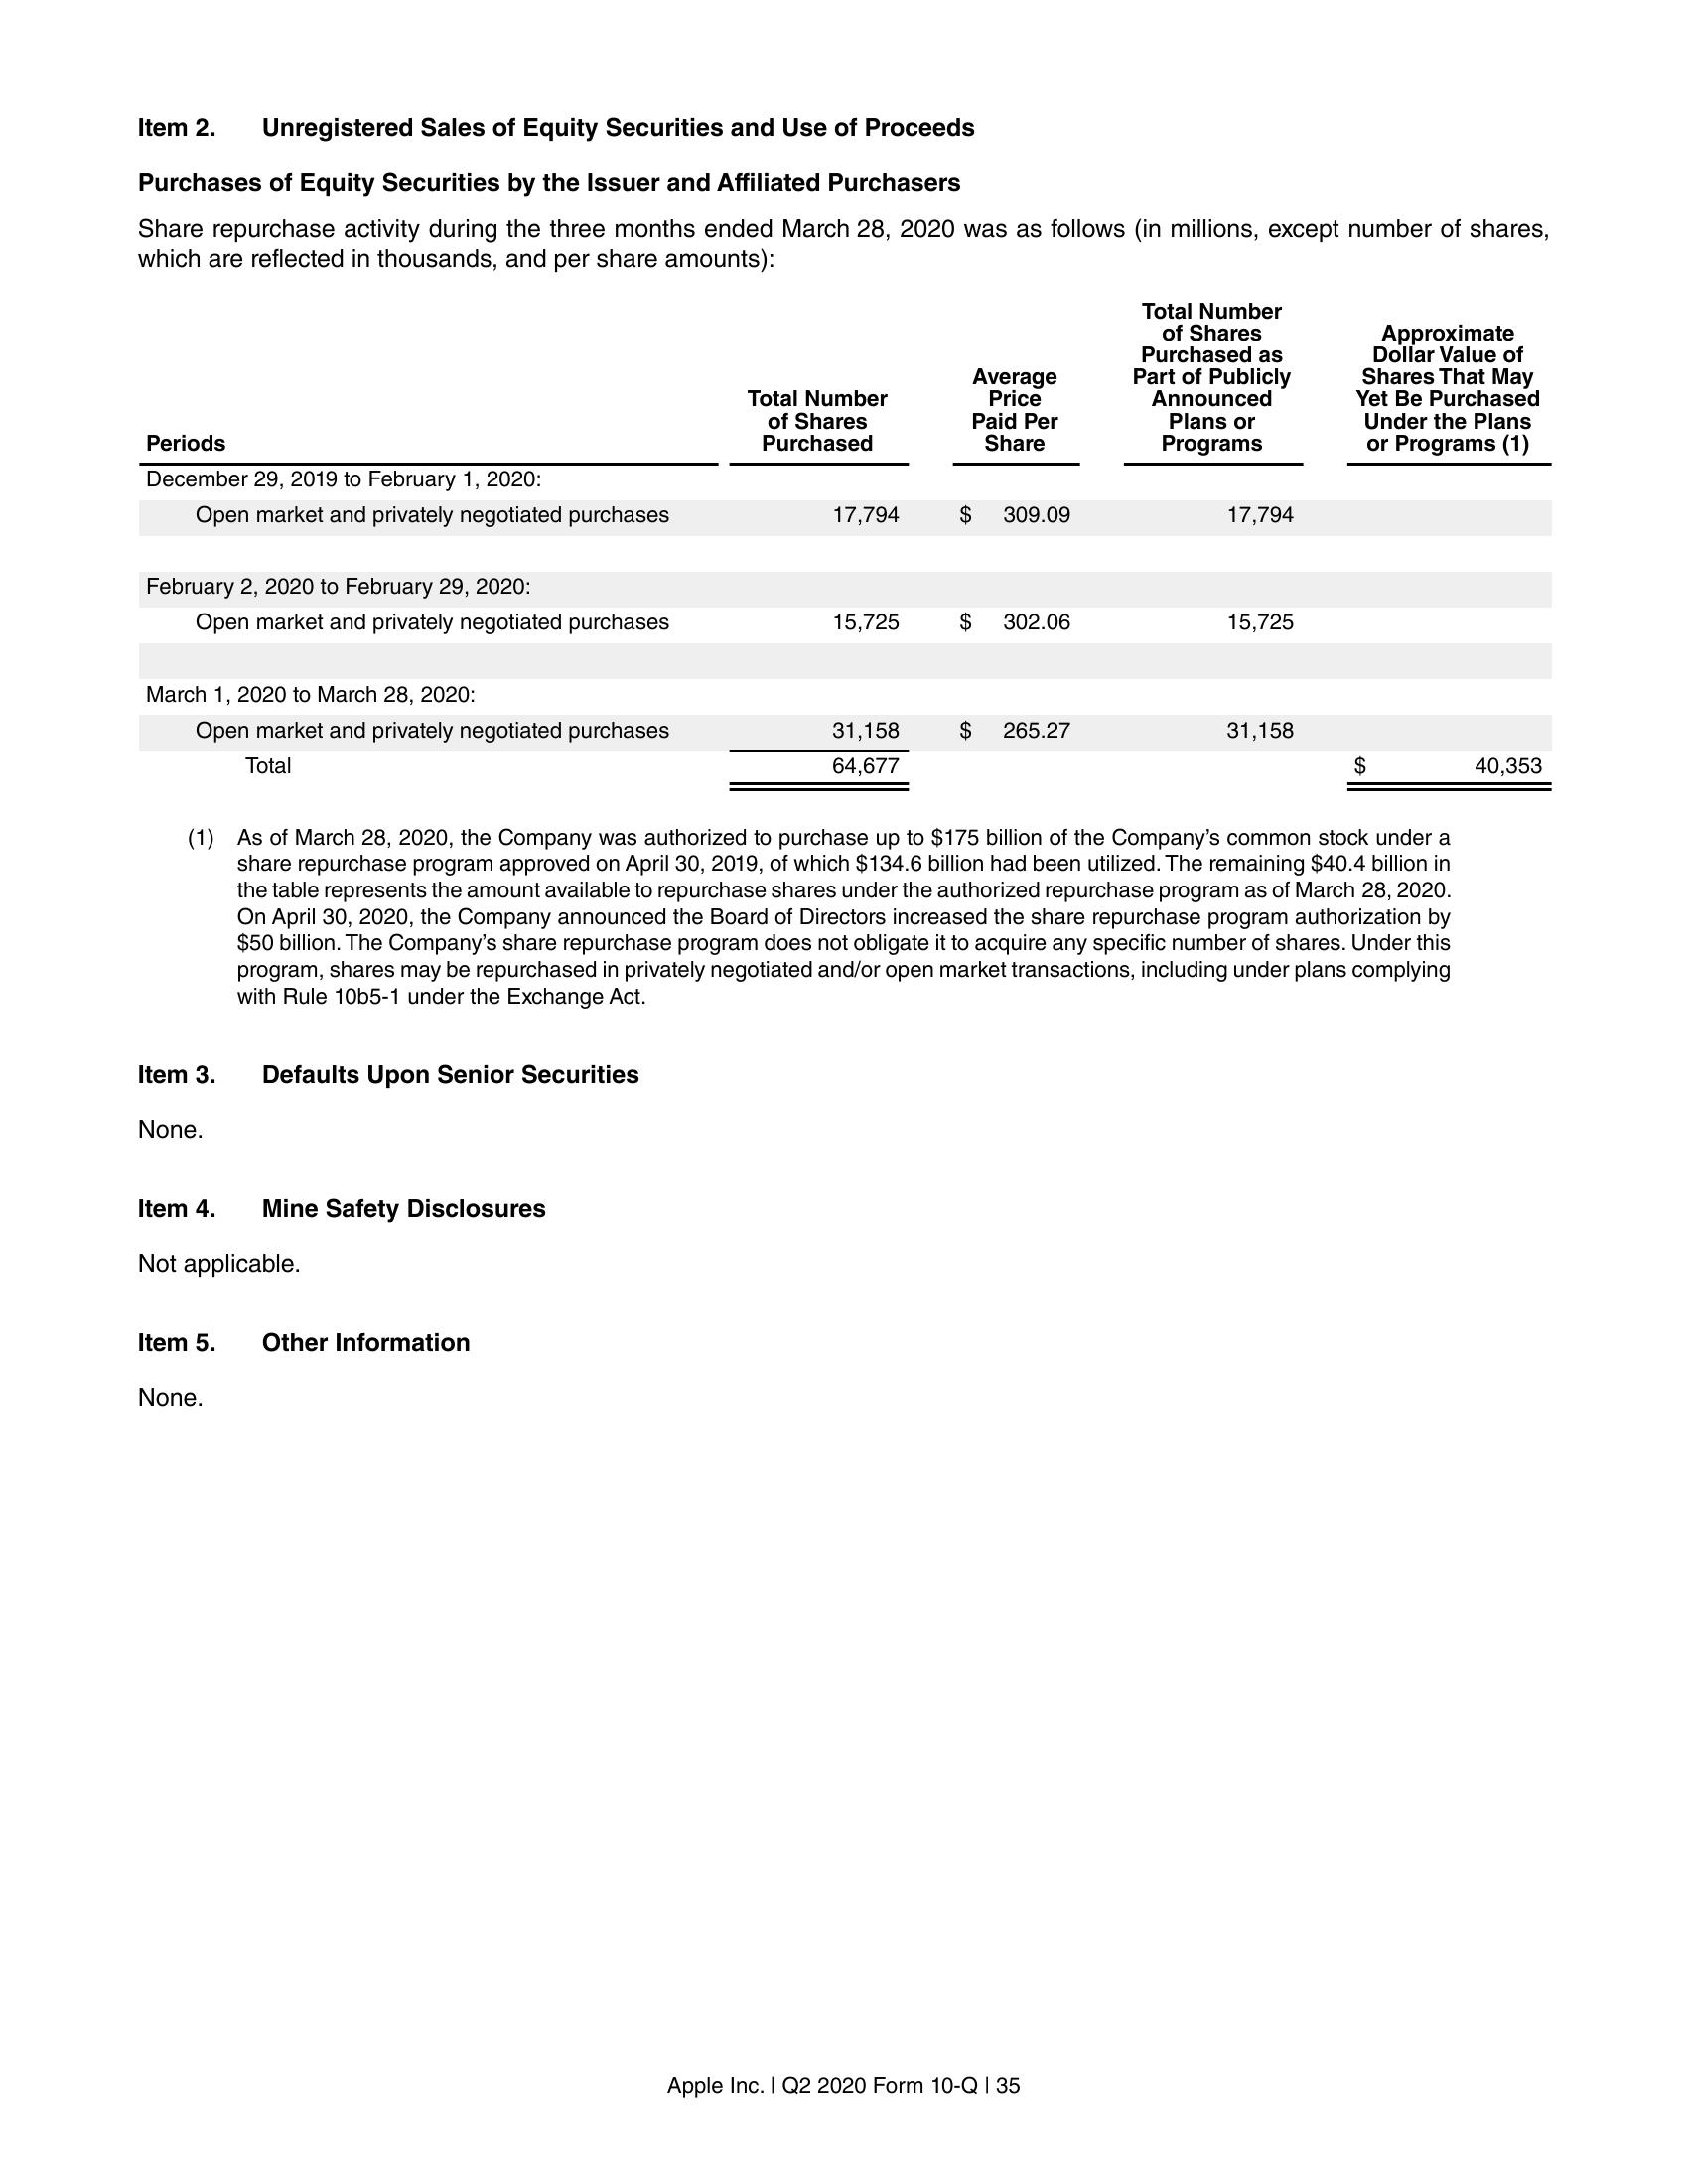table: (137, 300, 1560, 796)
